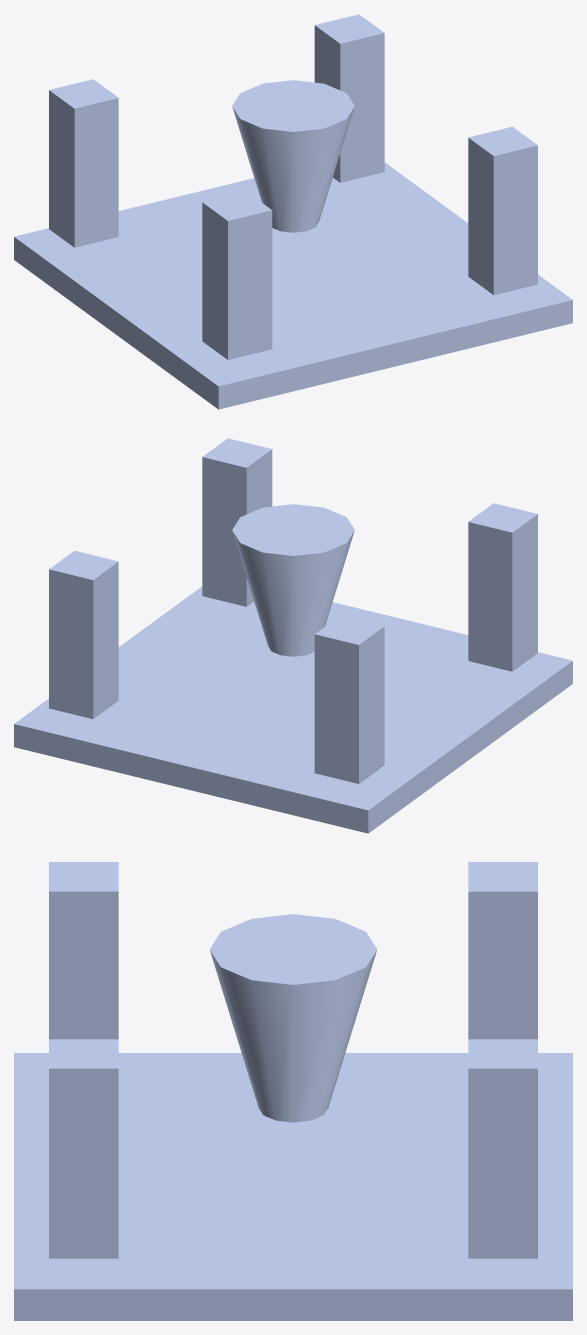
Rendered from quantum_chess.gltf.
3 renders of one model, top to bottom at view 1: azimuth 30°, elevation 25°; view 2: azimuth 150°, elevation 25°; view 3: azimuth 270°, elevation 25°, orthographic. The views are drawn at different scales.
Visible parts, largest first — view 1: quantum_chess; view 2: quantum_chess; view 3: quantum_chess.
Boxes of the visible parts, bbox=[...] form: quantum_chess: bbox=[14, 14, 572, 409]; quantum_chess: bbox=[14, 438, 572, 833]; quantum_chess: bbox=[14, 862, 572, 1320].
Bounding box in the file's own units: 0.8 × 0.4 × 0.8.
